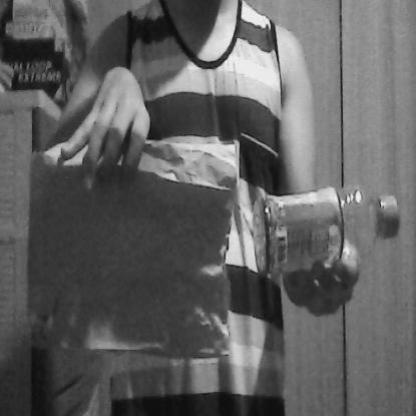Plastic Bottle: (250, 171, 404, 286)
